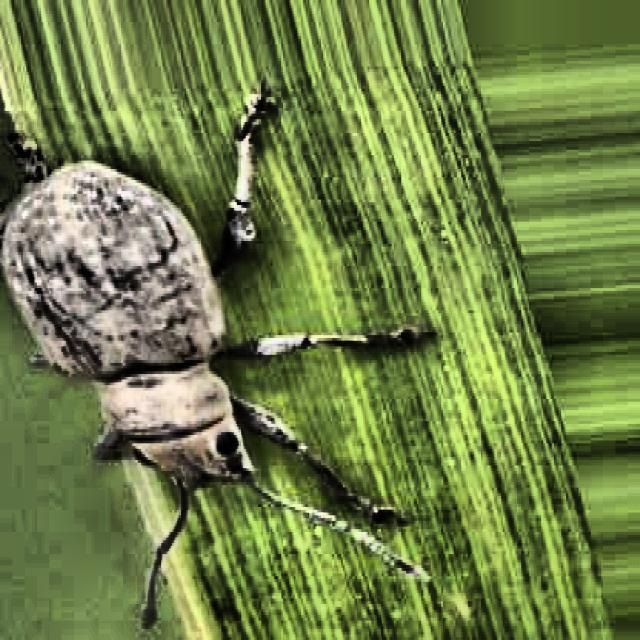Stink bug: (12, 67, 423, 627)
